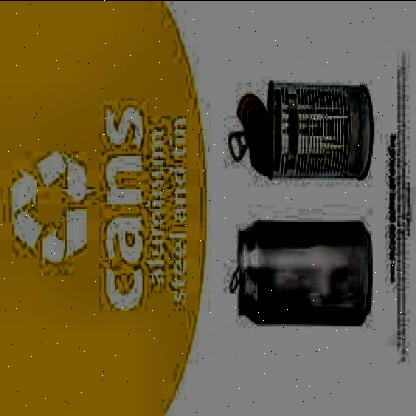Can: (224, 67, 380, 195), (224, 213, 380, 331)
